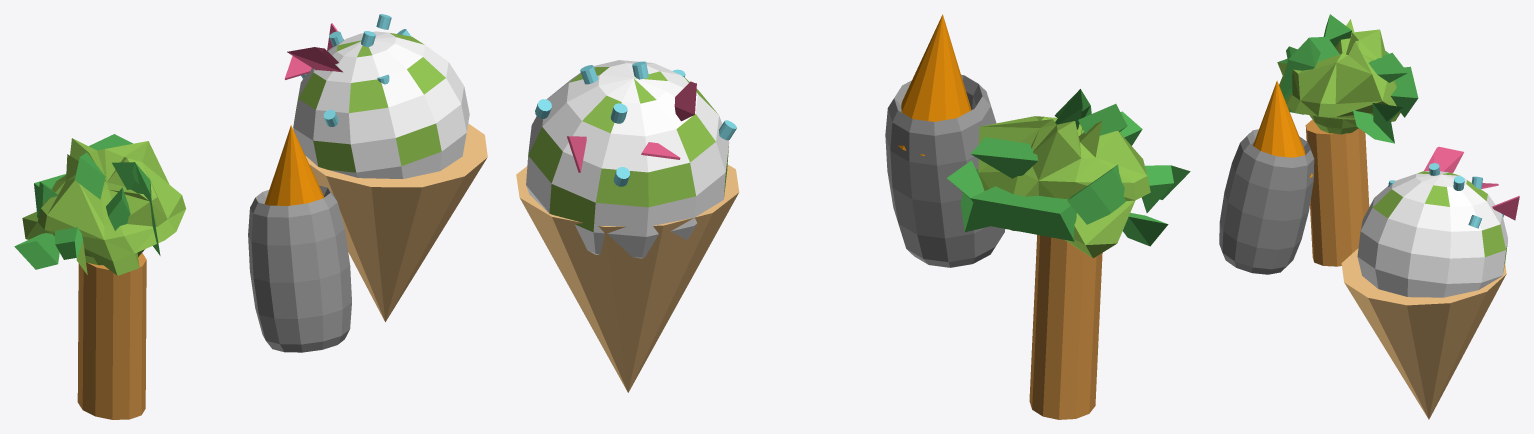
3 views of the same model, side by side, from view 1: azimuth 30°, elevation 25°; view 2: azimuth 150°, elevation 25°; view 3: azimuth 270°, elevation 25° (orthographic). The views are drawn at different scales.
Visible parts, largest first — view 1: group2124157391, group390123128, group893342068, group154970355, group1689330657, group582639396, group1453008360, group1500462099, group2118852489, group560267181, group461008662, group1768642919; view 2: group2124157391, group893342068, group390123128, group1689330657, group154970355, group582639396, group1649863183, group1340670386, group454375659, group1717404630, group2118852489, group1453008360 (+3 smaller); view 3: group2124157391, group893342068, group390123128, group1689330657, group154970355, group582639396, group1500462099, group1717404630, group1649863183, group454375659, group461008662, group560267181 (+1 smaller).
Boxes of the visible parts, box(x1,y1,x2,y2) form: group2124157391: box(293, 31, 469, 178); group390123128: box(248, 185, 351, 352); group893342068: box(305, 123, 487, 321); group154970355: box(22, 138, 185, 275); group1689330657: box(77, 253, 146, 419); group582639396: box(264, 125, 324, 205); group1453008360: box(14, 233, 59, 269); group1500462099: box(112, 162, 160, 255); group2118852489: box(55, 227, 87, 274); group560267181: box(74, 152, 105, 199); group461008662: box(287, 47, 342, 72); group1768642919: box(106, 187, 130, 230); group2124157391: box(526, 60, 729, 258); group893342068: box(516, 164, 739, 392); group390123128: box(885, 74, 1005, 267); group1689330657: box(1029, 234, 1102, 419); group154970355: box(978, 116, 1150, 258); group582639396: box(898, 14, 971, 155); group1649863183: box(970, 186, 1076, 241); group1340670386: box(1067, 164, 1126, 224); group454375659: box(971, 137, 1038, 178); group1717404630: box(947, 160, 990, 232); group2118852489: box(1141, 165, 1190, 212); group1453008360: box(1123, 213, 1168, 246); group2124157391: box(1357, 171, 1507, 297); group893342068: box(1341, 248, 1506, 419); group390123128: box(1219, 129, 1314, 274); group1689330657: box(1305, 119, 1369, 266); group154970355: box(1279, 19, 1400, 134); group582639396: box(1253, 80, 1312, 178); group1500462099: box(1280, 37, 1339, 114); group1717404630: box(1352, 103, 1402, 143); group1649863183: box(1391, 66, 1418, 117); group454375659: box(1368, 52, 1407, 82); group461008662: box(1424, 146, 1463, 172); group560267181: box(1323, 14, 1351, 46).
Size of the model in its own units: 1.39 by 0.8096 by 0.8377.
